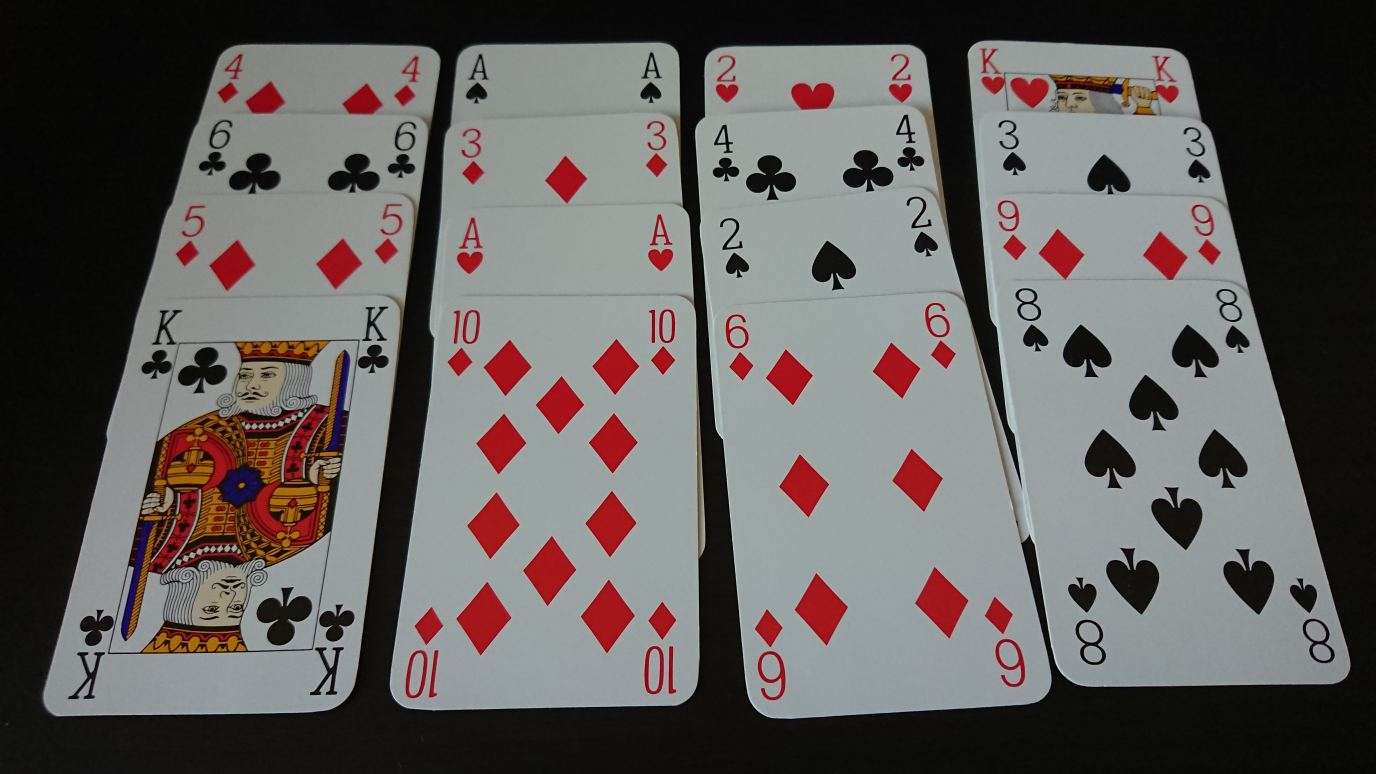10D: (443, 305, 483, 380), (644, 305, 681, 379)
2H: (883, 50, 916, 104), (711, 51, 742, 105)
2S: (901, 191, 943, 261), (714, 212, 752, 282)
3D: (640, 117, 674, 181), (457, 125, 489, 187)
3S: (991, 115, 1030, 179), (1176, 123, 1215, 187)
4C: (708, 120, 743, 187), (892, 111, 928, 175)
4D: (212, 50, 246, 107)
5D: (369, 198, 407, 269), (172, 202, 208, 271)
6C: (194, 116, 236, 180), (383, 118, 423, 182)
6D: (919, 298, 960, 373), (721, 309, 758, 385)
8S: (1210, 283, 1254, 356), (1009, 282, 1051, 356)
9D: (1186, 200, 1225, 269), (993, 196, 1030, 262)
AH: (644, 211, 679, 274), (454, 213, 486, 279)
AS: (461, 50, 495, 107), (636, 48, 666, 106)
KC: (138, 302, 186, 384), (354, 301, 394, 377)
KH: (1148, 50, 1183, 107), (974, 43, 1009, 98)
